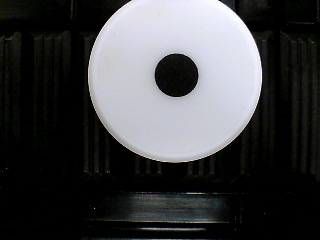BOHO: (87, 1, 263, 163)
